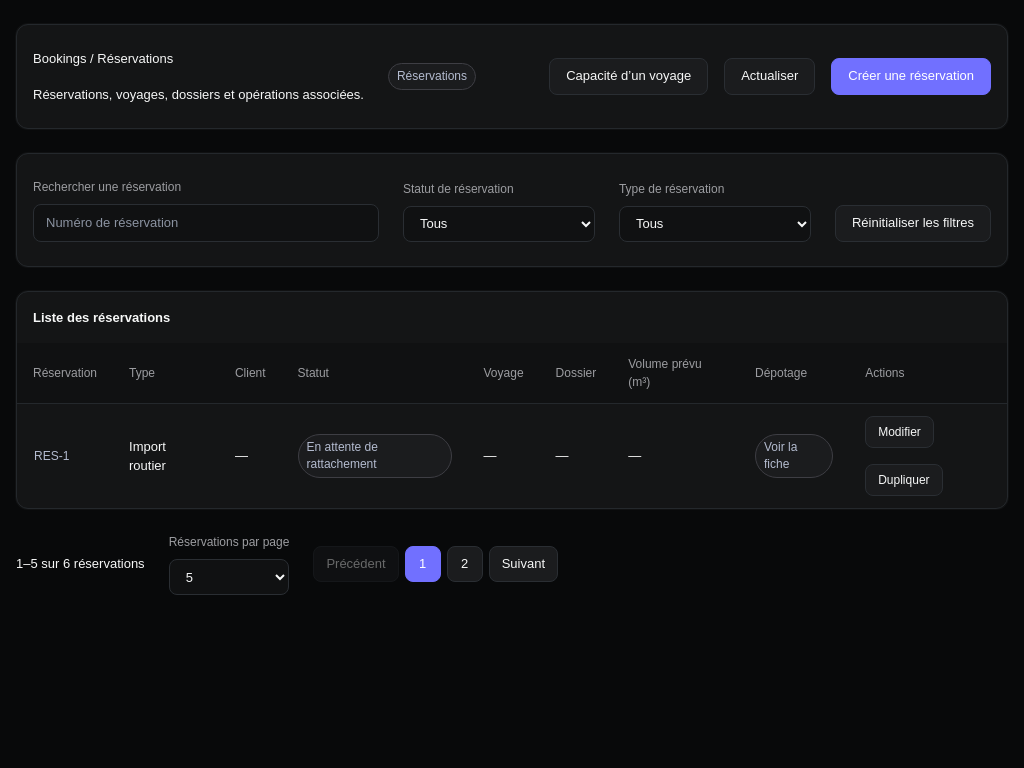
Test case: Bookings API presentation › uses server totals and pages without slicing twice
Expected: the text "1–5 sur 6 réservations" is shown, [16,554,145,574]
Click the button "Suivant".
click(523, 564)  # box [489,546,558,582]
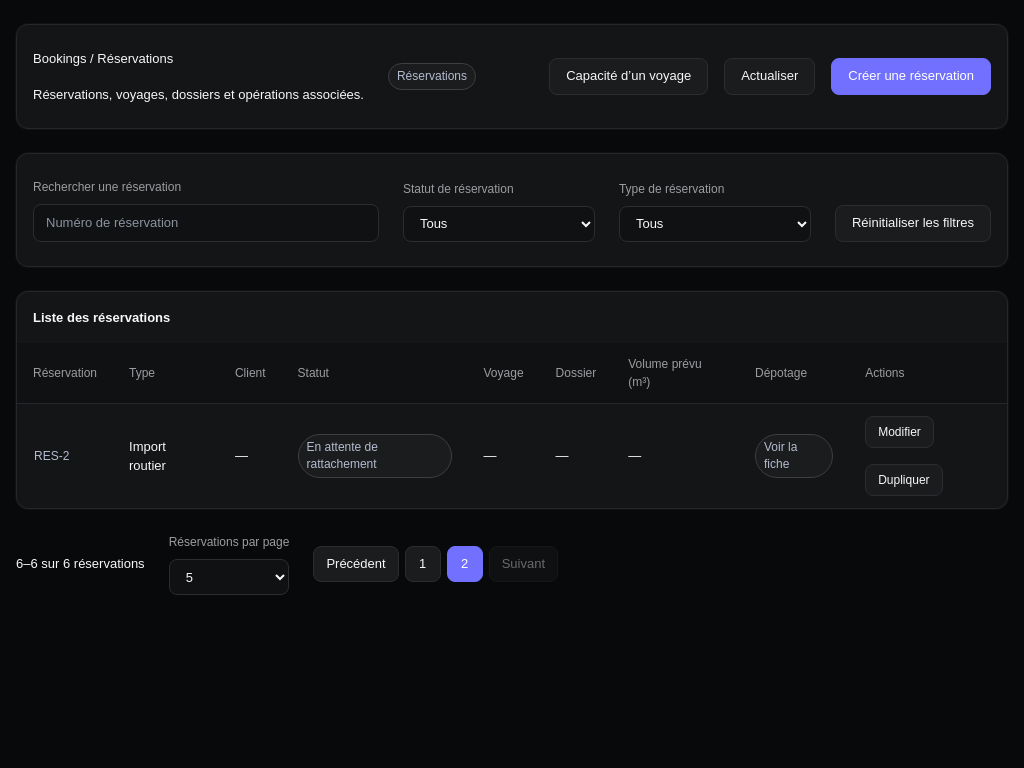
Expected: the text "Voir la fiche" is shown, [755,434,833,478]
Expected: the button "RES-2" is shown, [33,440,82,472]
Expected: the text "6–6 sur 6 réservations" is shown, [16,554,145,574]
